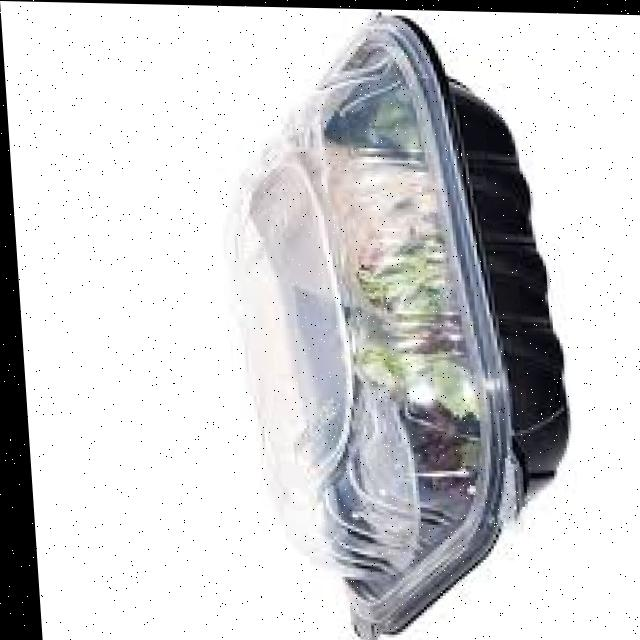disposable: (197, 3, 583, 620)
